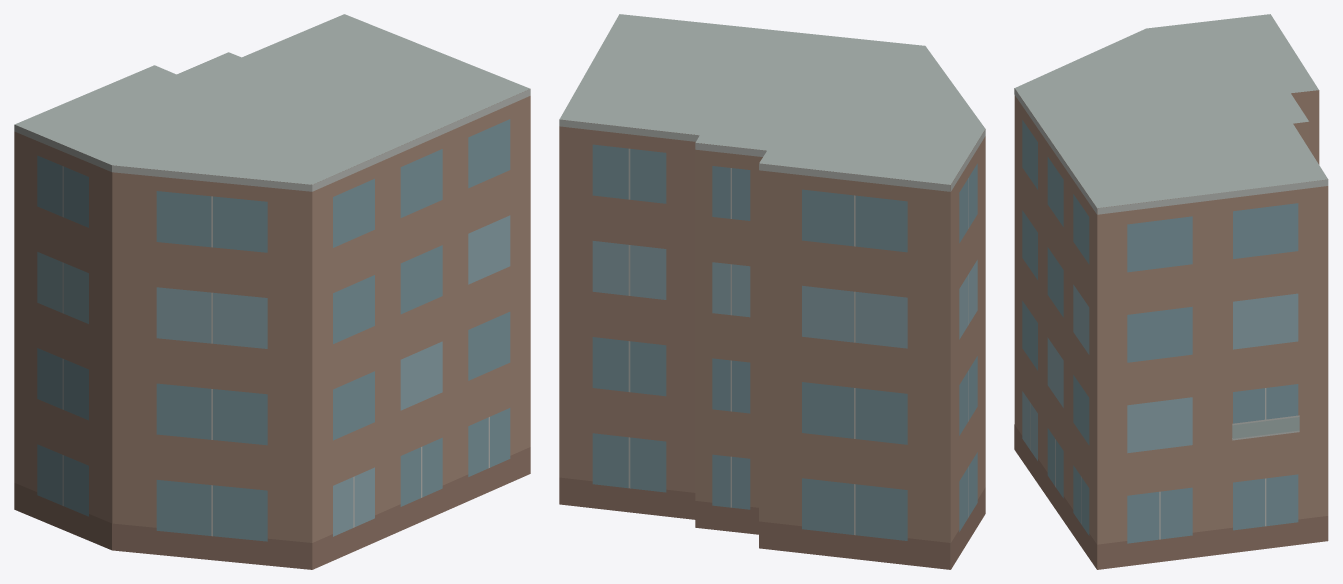
The model's file is survey-upis-32937296.glb.
3 views of the same model, side by side, from view 1: azimuth 30°, elevation 25°; view 2: azimuth 150°, elevation 25°; view 3: azimuth 270°, elevation 25° (orthographic). The views are drawn at different scales.
Parts seen in each view (by area): view 1: survey-upis-32937296.tmp; view 2: survey-upis-32937296.tmp; view 3: survey-upis-32937296.tmp.
Boxes of the visible parts, left/top/right/bottom form: survey-upis-32937296.tmp: left=14, top=14, right=530, bottom=569; survey-upis-32937296.tmp: left=559, top=14, right=985, bottom=569; survey-upis-32937296.tmp: left=1014, top=14, right=1328, bottom=569.
Bounding box in the file's own units: 15.56 × 13.5 × 10.62.
